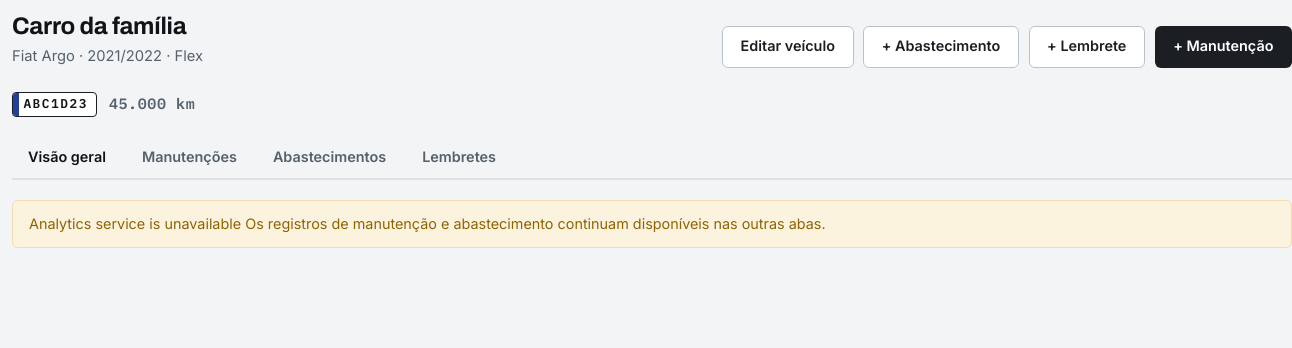
Test: VehicleDetailPage › keeps the history usable when the analytics service is unavailable
The width and height of the screenshot is (1292, 348).
Expected: the text "Analytics service is unavailable" is shown, [29,215,241,232]
Step 1. Click the tab "Manutenções" → (189, 158), box [126,137,253,180]
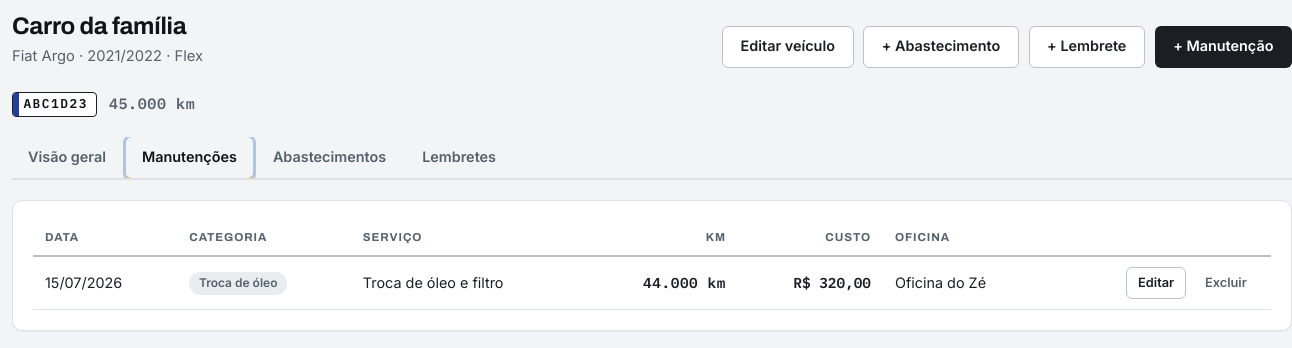
Result: the text "Troca de óleo e filtro" is shown at [351,256,586,310]
Result: the text "Oficina do Zé" is shown at [883,256,1047,310]
Result: the text "Troca de óleo" is shown at [189,272,287,295]
